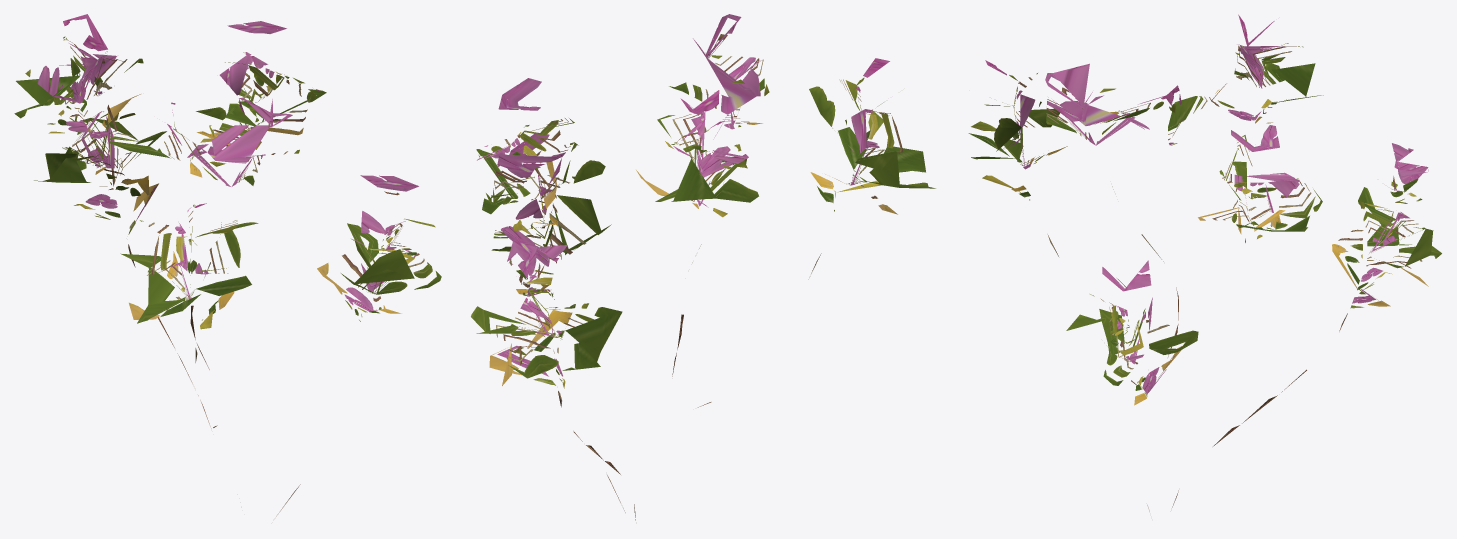
Rendered from perennial-bloom-lod2.glb.
3 views of the same model, side by side, from view 1: azimuth 30°, elevation 25°; view 2: azimuth 150°, elevation 25°; view 3: azimuth 270°, elevation 25° (orthographic). The views are drawn at different scales.
Visible parts, largest first — view 1: impostor; view 2: impostor; view 3: impostor.
Part boxes in pixels (bbox=[...]): impostor: bbox=[14, 14, 441, 516]; impostor: bbox=[471, 14, 935, 520]; impostor: bbox=[968, 14, 1441, 511].
Size of the model in its own units: 0.2565 by 0.3247 by 0.3106.
Materials: 1 (1 with a texture image).
